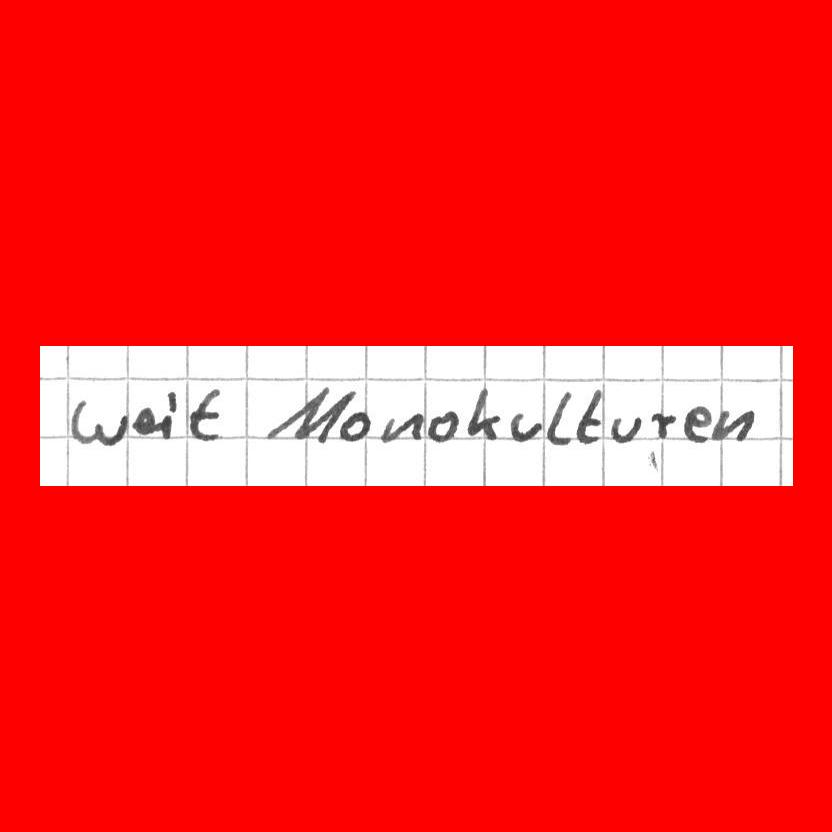Char: (267, 383, 349, 442), (68, 394, 128, 449), (186, 383, 225, 445), (465, 385, 503, 443), (710, 405, 757, 443), (545, 386, 573, 449), (575, 388, 606, 444), (380, 410, 421, 445), (156, 384, 181, 441), (680, 404, 712, 444), (427, 407, 461, 444), (609, 411, 644, 445), (339, 408, 372, 444), (509, 410, 544, 442), (130, 401, 154, 437), (650, 411, 676, 440)
